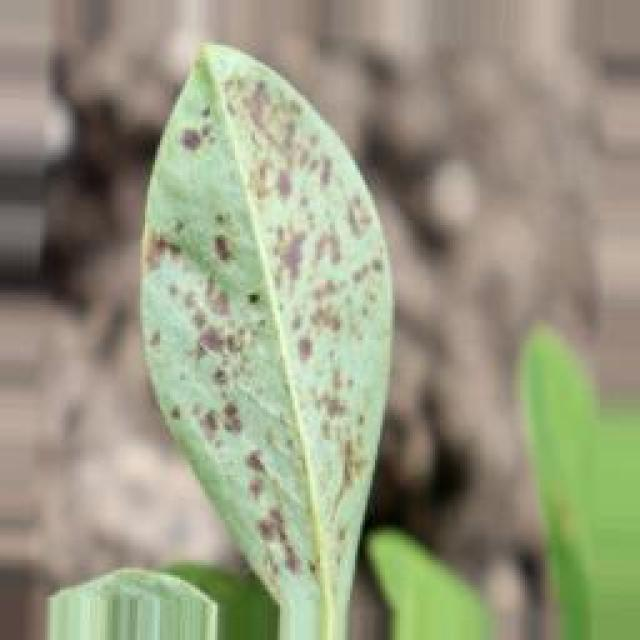Whitefly: (119, 26, 402, 605)
